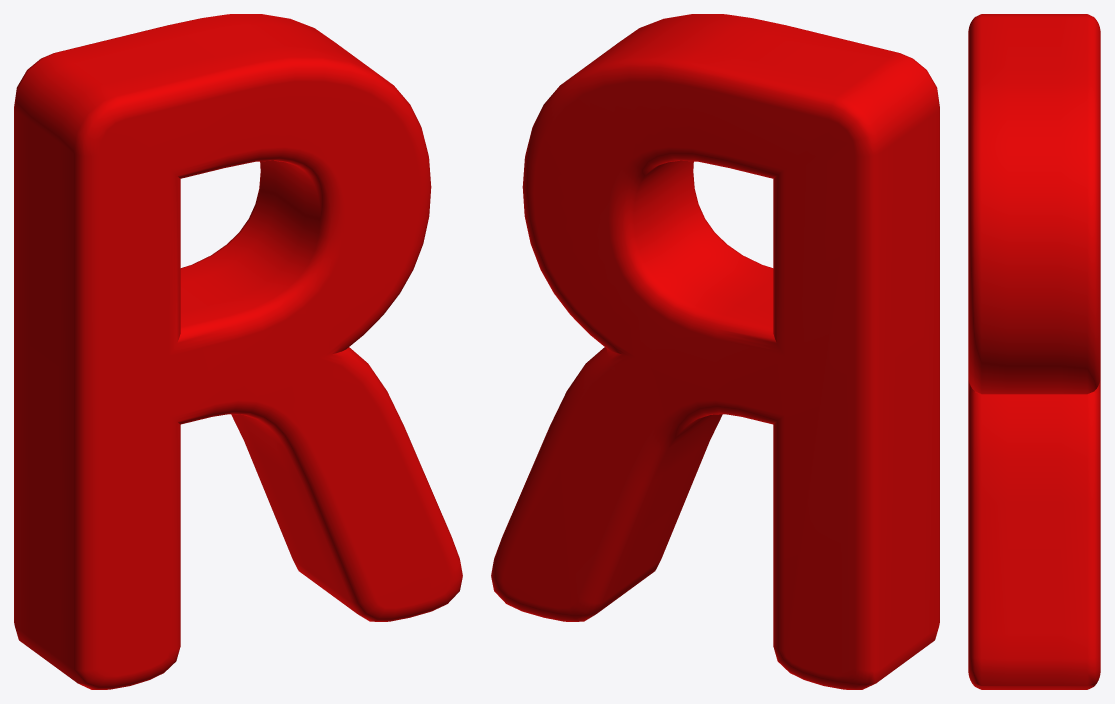
3 renders of one model, left to right at view 1: azimuth 30°, elevation 25°; view 2: azimuth 150°, elevation 25°; view 3: azimuth 270°, elevation 25°, orthographic. The views are drawn at different scales.
Parts seen in each view (by area): view 1: R; view 2: R; view 3: R.
Boxes of the visible parts, x1,y1,x2,y2 form: R: [14, 14, 462, 689]; R: [491, 14, 939, 689]; R: [968, 14, 1100, 689].
Size of the model in its own units: 7.61 by 11.1 by 2.5.
